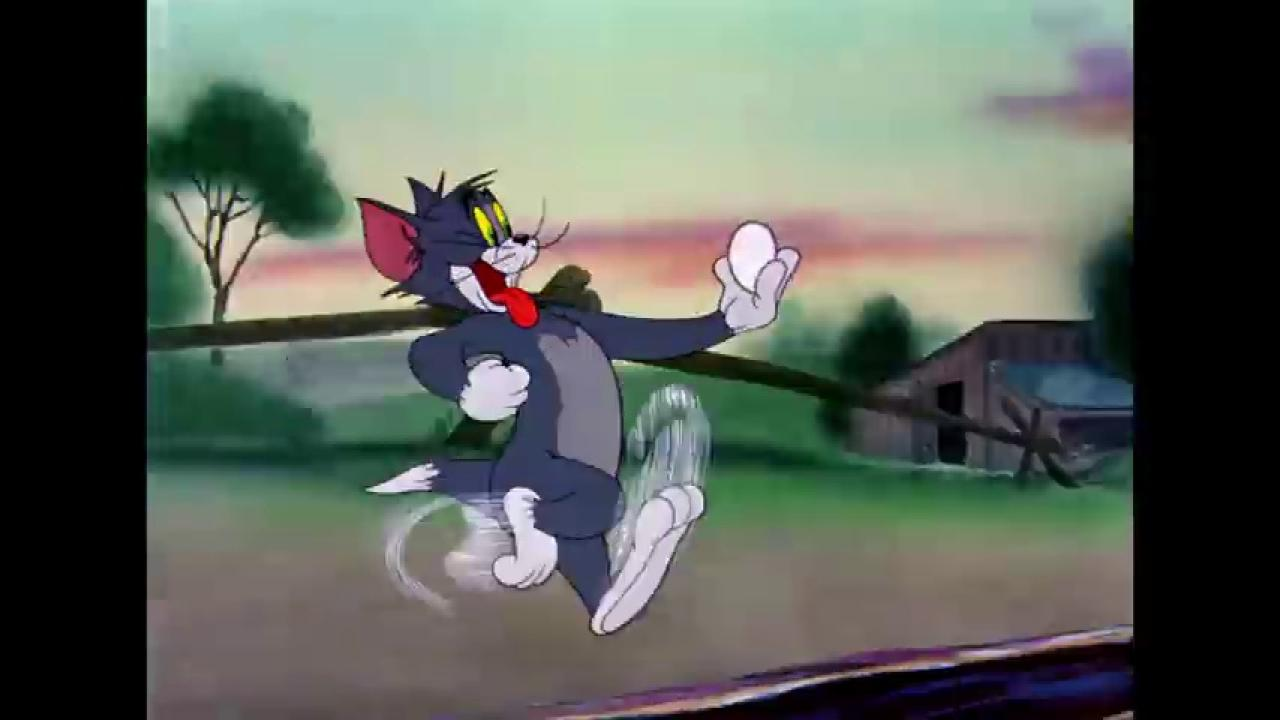Tom: (353, 170, 802, 640)
